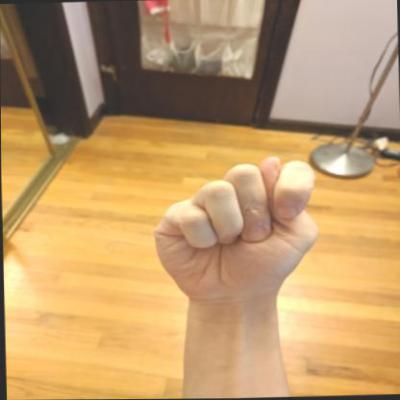hand: (146, 152, 326, 306)
